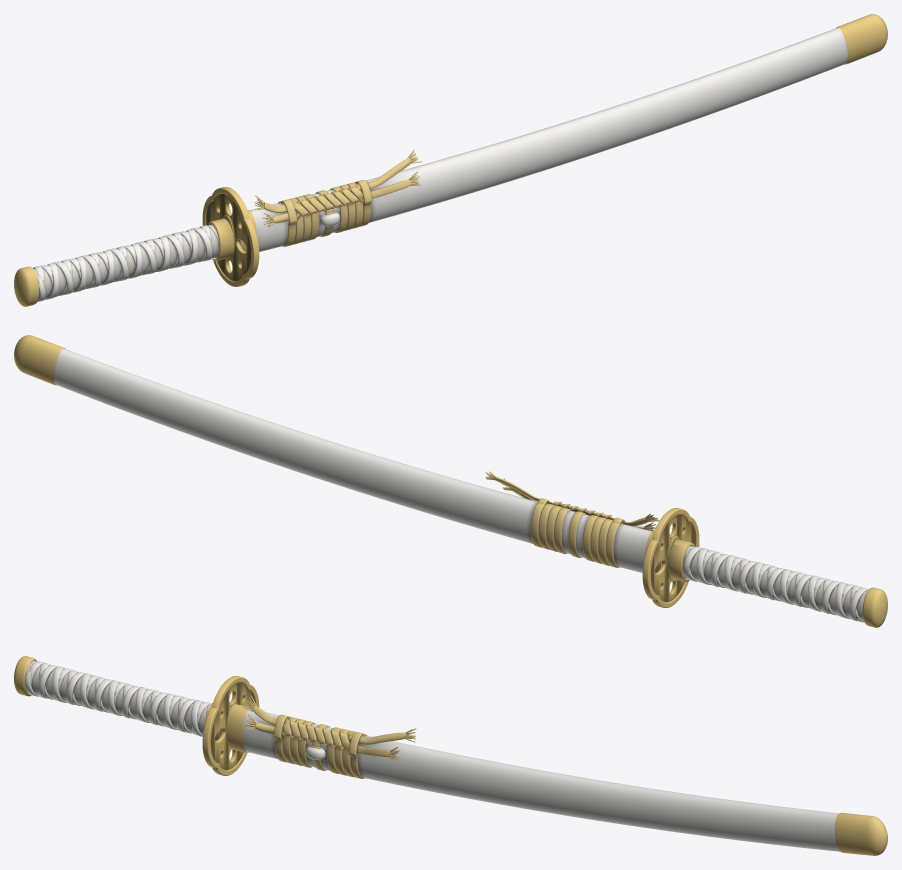
The model's file is katana.glb.
3 views of the same model, one above another, from view 1: azimuth 30°, elevation 25°; view 2: azimuth 150°, elevation 25°; view 3: azimuth 330°, elevation 25° (orthographic).
Parts seen in each view (by area): view 1: saya, sageo, ito, same, tsuba_plate, kojiri, tsuba_rim, kashira, fuchi; view 2: saya, ito, sageo, same, tsuba_plate, kojiri, tsuba_rim, kashira, fuchi; view 3: saya, sageo, ito, same, kojiri, tsuba_plate, tsuba_rim, koiguchi, kashira.
Part boxes in pixels (<box>): saya: <box>249,27,847,251</box>; sageo: <box>254,149,422,246</box>; ito: <box>32,224,219,301</box>; same: <box>42,227,218,298</box>; tsuba_plate: <box>206,193,250,281</box>; kojiri: <box>836,14,887,64</box>; tsuba_rim: <box>202,187,259,286</box>; kashira: <box>14,266,39,306</box>; fuchi: <box>207,218,234,260</box>; saya: <box>54,348,652,572</box>; ito: <box>683,545,869,622</box>; sageo: <box>485,471,659,567</box>; same: <box>682,550,866,621</box>; tsuba_plate: <box>651,514,695,602</box>; kojiri: <box>14,335,65,385</box>; tsuba_rim: <box>642,508,699,607</box>; kashira: <box>862,587,887,627</box>; fuchi: <box>667,539,695,581</box>; saya: <box>242,710,840,851</box>; sageo: <box>242,695,416,778</box>; ito: <box>25,660,211,736</box>; same: <box>31,665,208,734</box>; kojiri: <box>835,813,887,855</box>; tsuba_plate: <box>210,682,254,770</box>; tsuba_rim: <box>202,676,259,775</box>; koiguchi: <box>226,704,250,752</box>; kashira: <box>14,656,37,696</box>.
Size of the model in its own units: 8.76 by 1.08 by 0.9.
